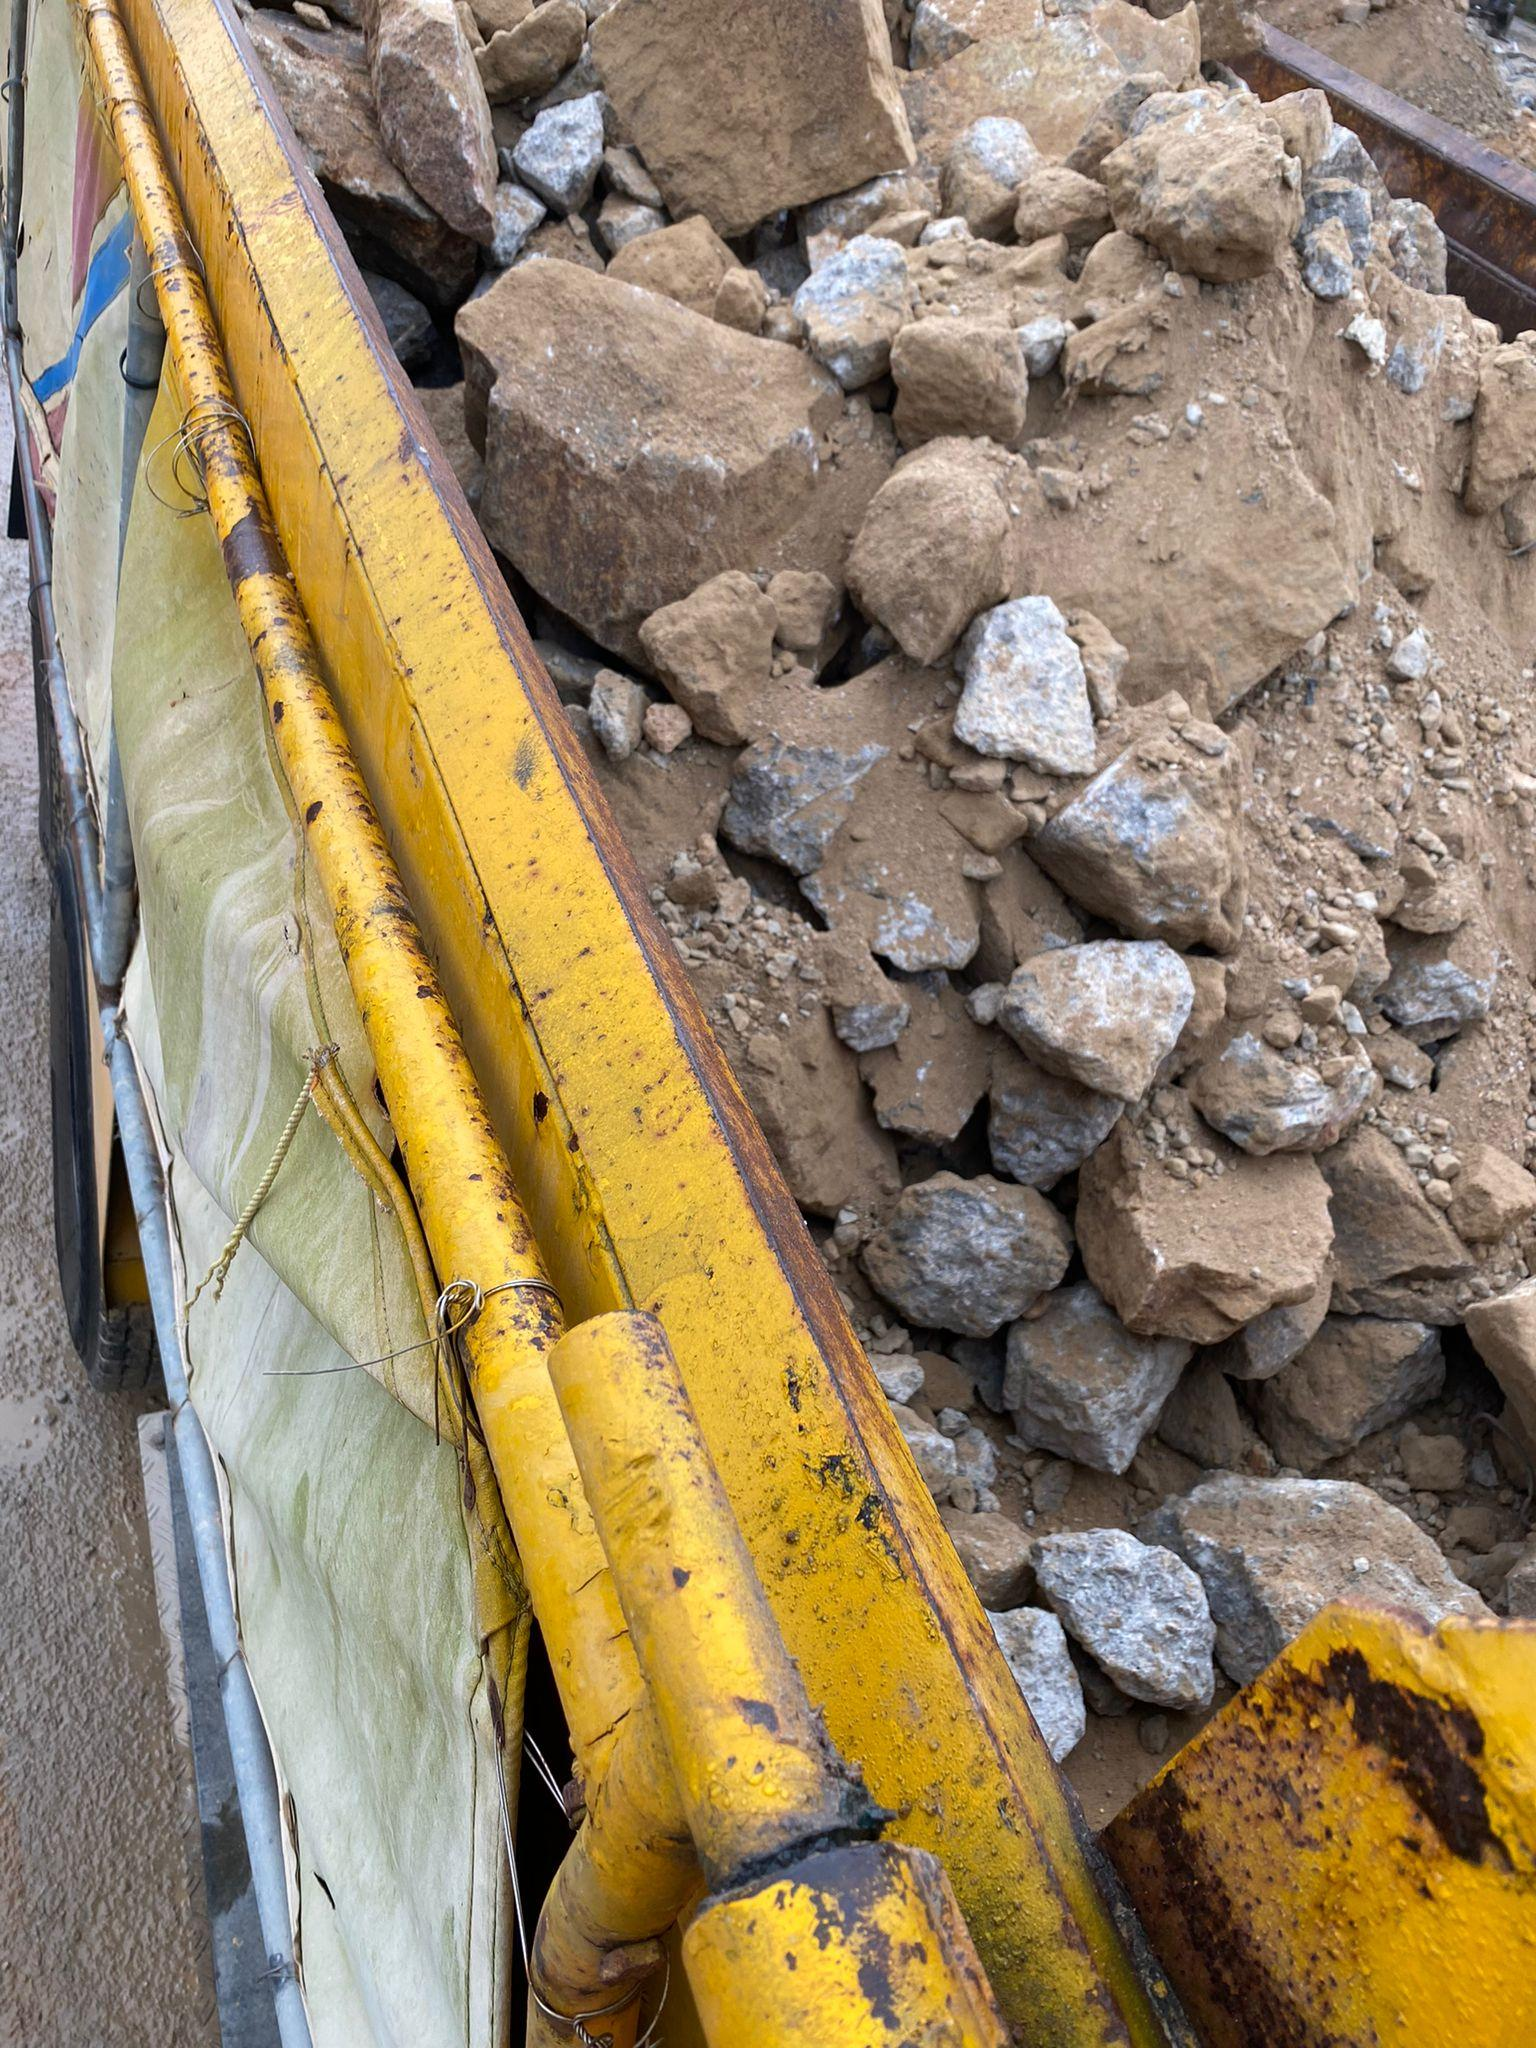stone: (221, 0, 1534, 1789), (450, 254, 854, 671), (1071, 1081, 1337, 1344), (856, 1167, 1072, 1338), (1030, 1524, 1217, 1713), (995, 934, 1196, 1101), (950, 592, 1098, 776)
